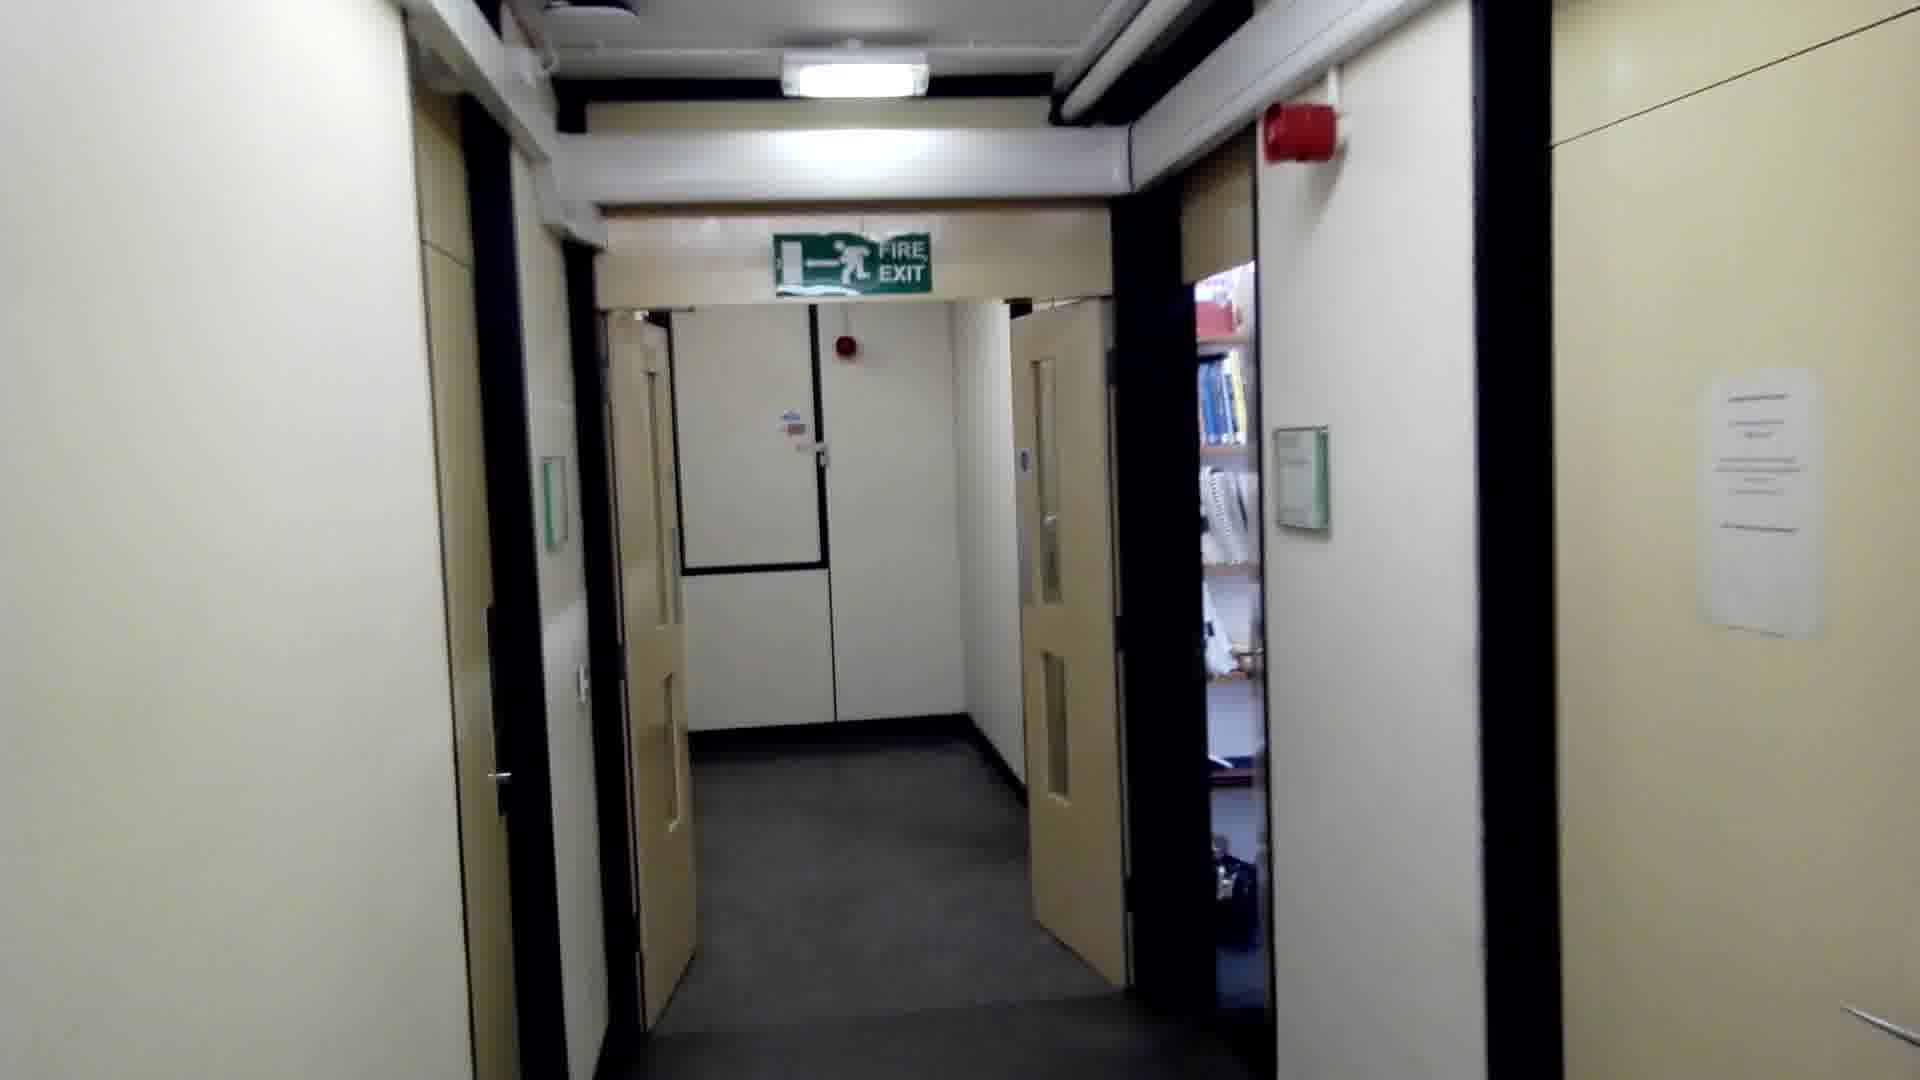Door: (411, 251, 562, 1080), (997, 290, 1149, 1018), (582, 303, 724, 1036)
